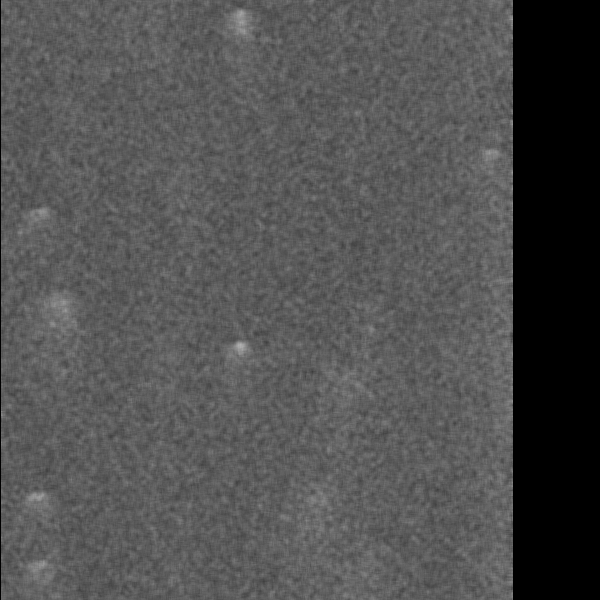spark: (38, 286, 85, 358), (229, 7, 250, 75), (227, 334, 252, 380), (475, 142, 508, 174), (28, 200, 54, 237), (22, 486, 49, 516), (20, 556, 53, 576)
